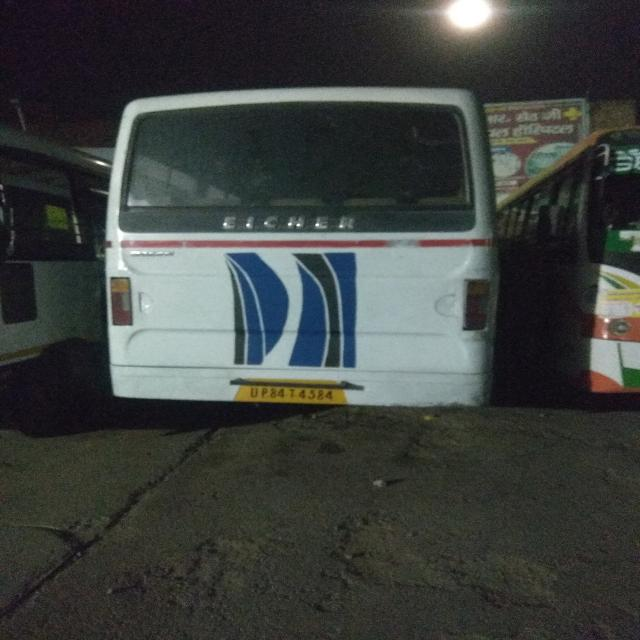Bus: (103, 82, 510, 427)
